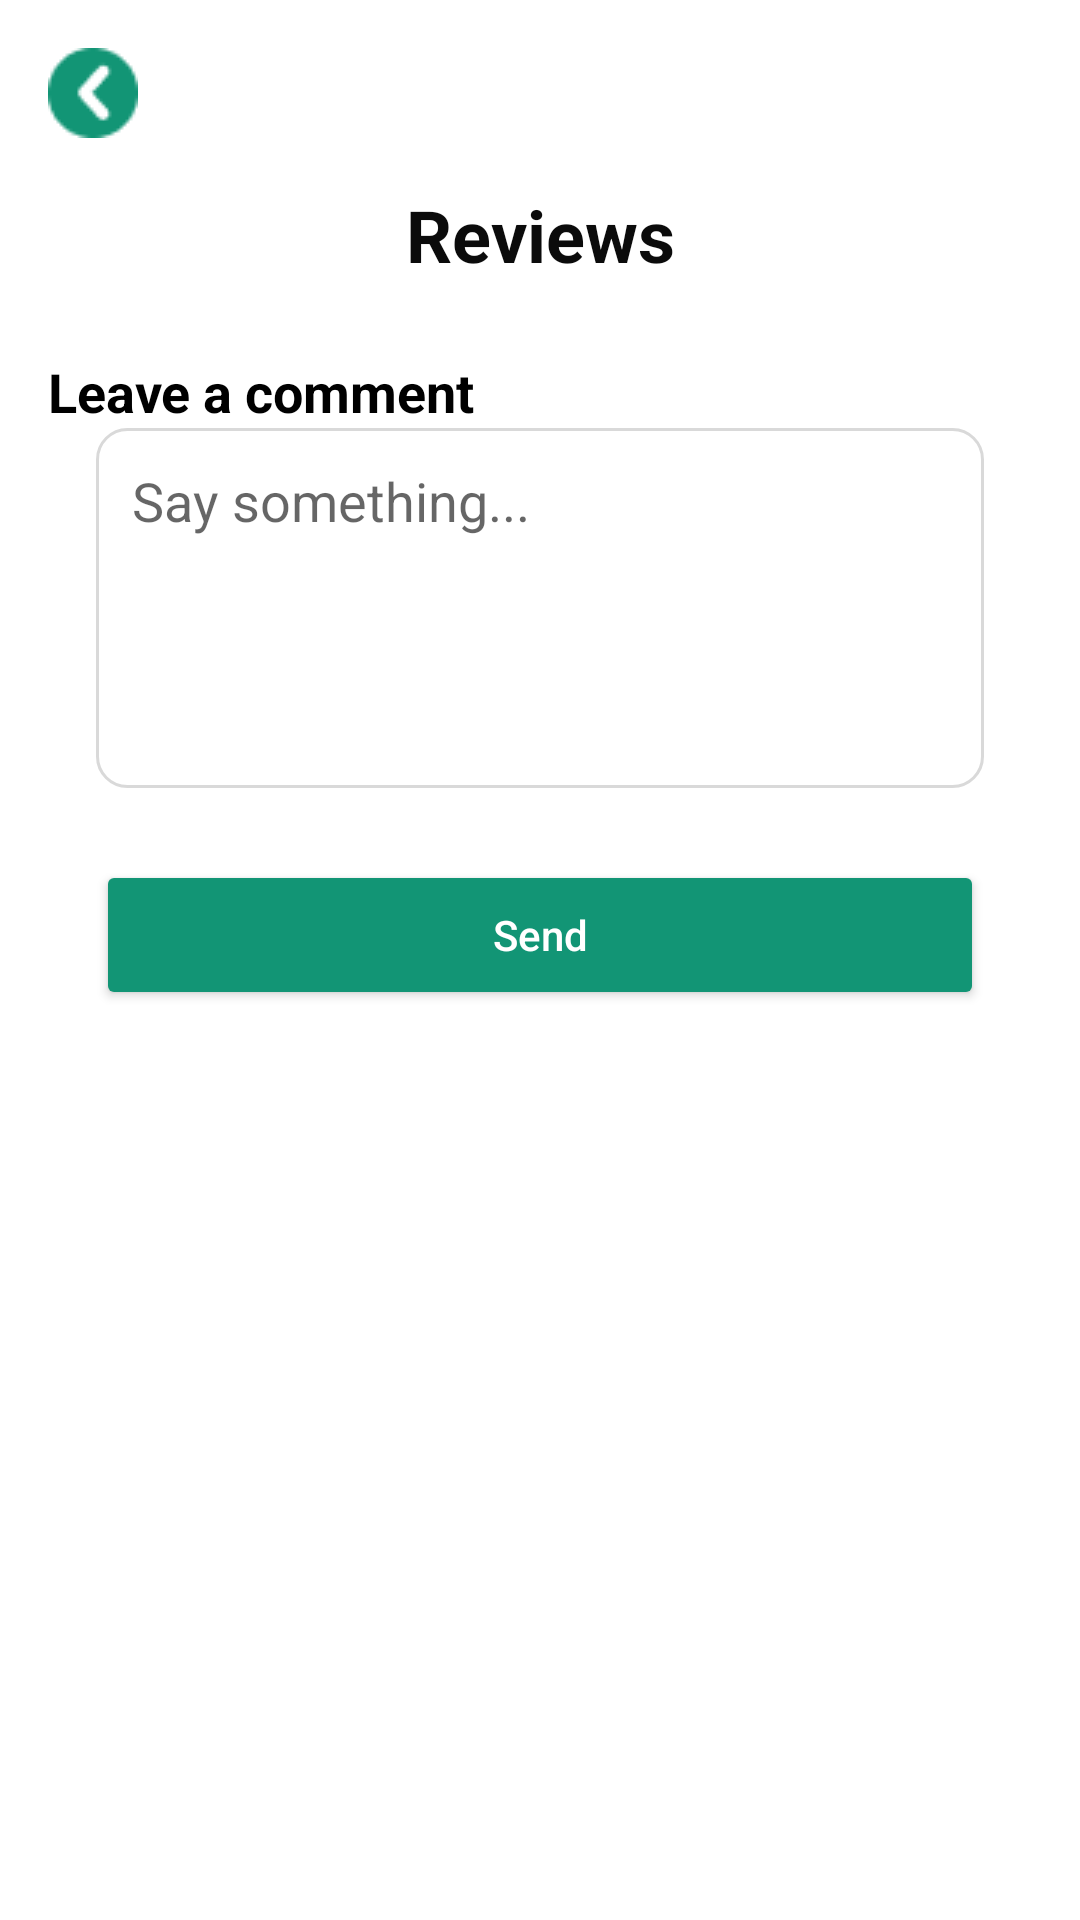

Screen size 1080x1920. Icon name, then its center in pixels as point (x, y):
Back: point (93, 93)
